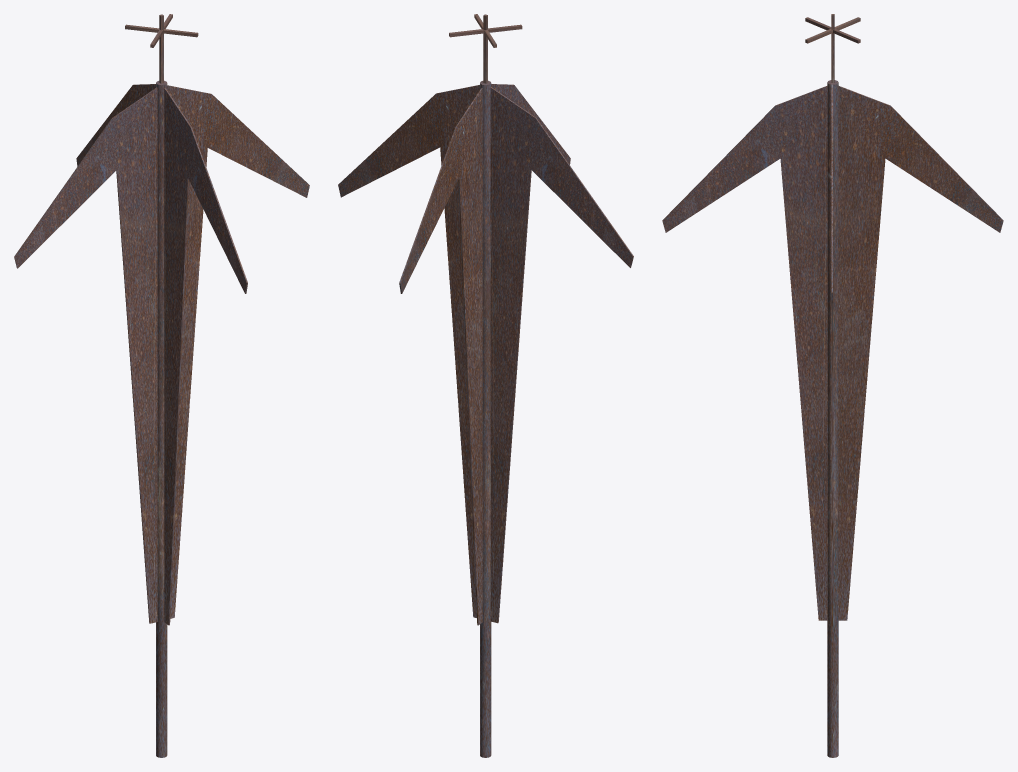
File: designator1.obj
3 renders of one model, left to right at view 1: azimuth 30°, elevation 25°; view 2: azimuth 150°, elevation 25°; view 3: azimuth 270°, elevation 25°, orthographic.
Parts seen in each view (by area): view 1: telo1, telo2, tyc; view 2: telo1, telo2, tyc; view 3: telo2, tyc, telo1.
Boxes of the visible parts, x1=… form: telo1: x1=14, y1=85, x2=309, y2=623; telo2: x1=76, y1=84, x2=247, y2=625; tyc: x1=156, y1=80, x2=167, y2=757; telo1: x1=338, y1=85, x2=633, y2=623; telo2: x1=399, y1=84, x2=570, y2=625; tyc: x1=480, y1=80, x2=491, y2=757; telo2: x1=662, y1=86, x2=1003, y2=620; tyc: x1=827, y1=80, x2=838, y2=757; telo1: x1=831, y1=88, x2=832, y2=626.
Size of the model in its own units: 1.25 by 2.99 by 1.25.
